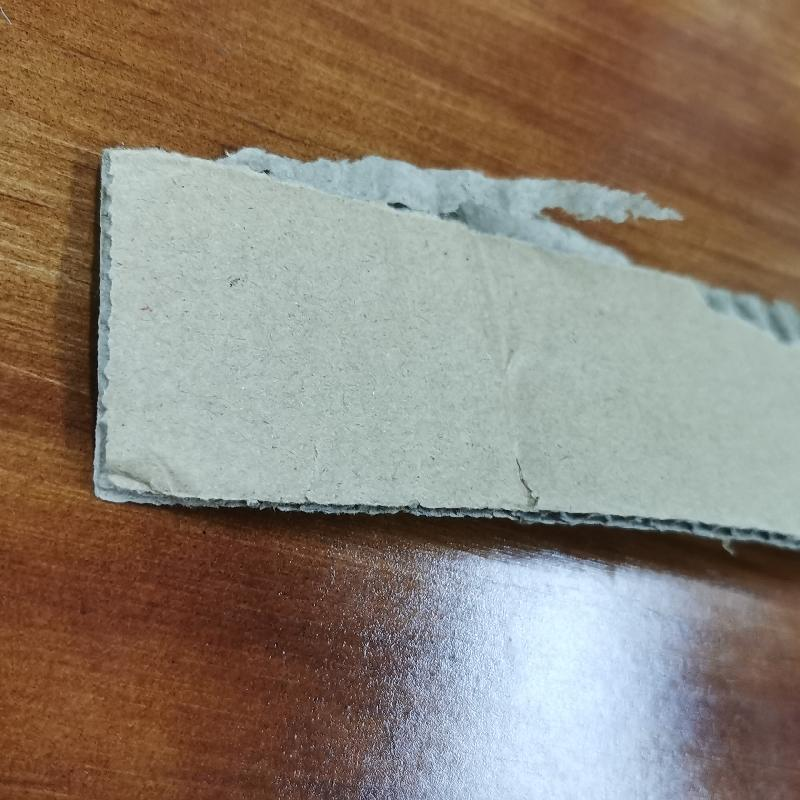boxes: (84, 137, 799, 573)
